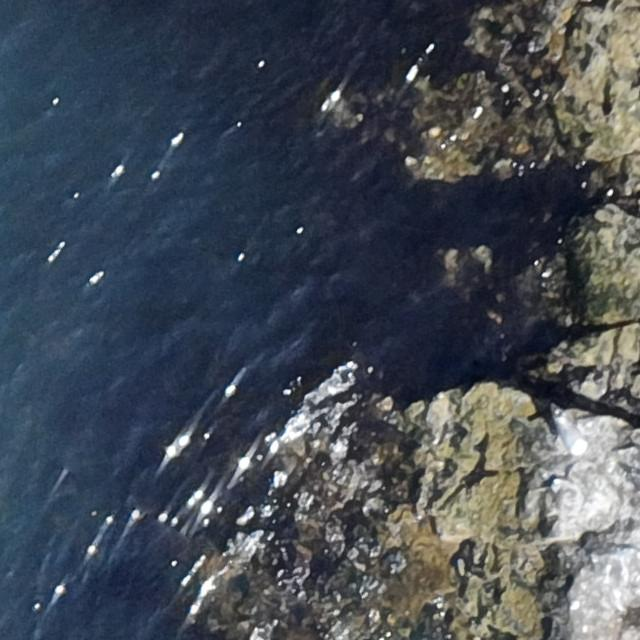umineko: (550, 408, 591, 460)
